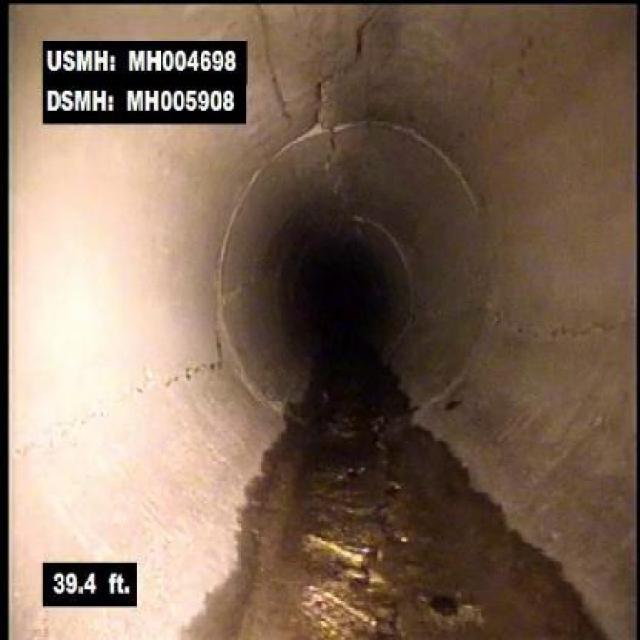Buckling: (346, 443, 411, 639)
Crack: (20, 405, 112, 457), (254, 6, 292, 123), (500, 312, 618, 343), (146, 352, 229, 396), (351, 6, 383, 72), (312, 83, 330, 128)
